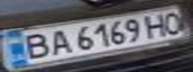1: (90, 20, 112, 48)
6: (72, 24, 96, 52), (109, 17, 130, 45)
9: (121, 16, 145, 43)
A: (45, 27, 72, 56)
B: (15, 30, 54, 61)
H: (139, 11, 172, 38)
O: (160, 9, 190, 35)
